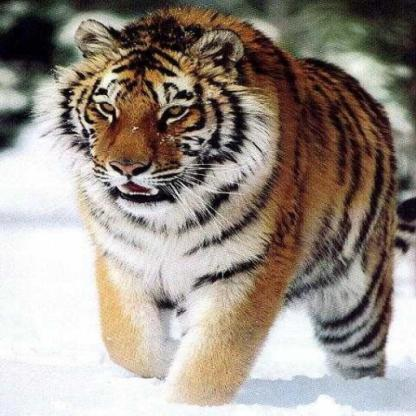Tiger: (21, 6, 416, 414)
